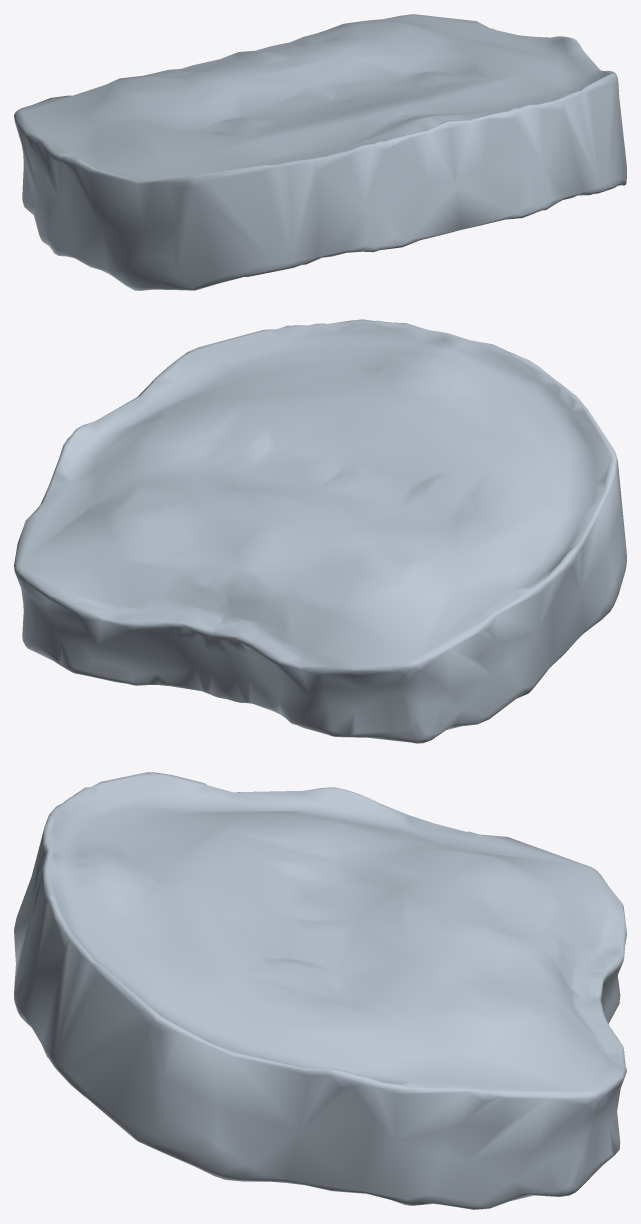
The model's file is intervertebral-disc-t10-t11.glb.
3 renders of one model, top to bottom at view 1: azimuth 30°, elevation 25°; view 2: azimuth 150°, elevation 25°; view 3: azimuth 270°, elevation 25°, orthographic. The views are drawn at different scales.
Parts seen in each view (by area): view 1: Intervertebral disc T10-T11; view 2: Intervertebral disc T10-T11; view 3: Intervertebral disc T10-T11.
Part boxes in pixels (box(x1,y1,x2,y2)): Intervertebral disc T10-T11: box(14, 14, 626, 290); Intervertebral disc T10-T11: box(14, 319, 626, 743); Intervertebral disc T10-T11: box(14, 772, 626, 1209).
Size of the model in its own units: 0.0406 by 0.0159 by 0.0367.
